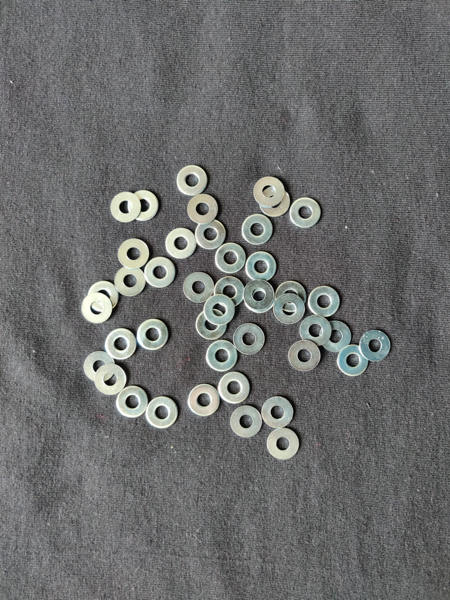circle: (267, 428, 301, 461), (145, 396, 178, 430), (262, 397, 294, 430), (276, 280, 308, 313), (116, 386, 148, 419), (105, 329, 138, 361), (231, 406, 263, 438), (360, 330, 392, 362), (218, 372, 250, 404), (273, 293, 305, 325), (188, 385, 220, 417), (137, 319, 169, 351), (83, 351, 115, 383), (310, 286, 341, 319), (289, 197, 322, 228), (338, 345, 369, 377), (289, 341, 321, 372), (321, 321, 352, 353), (234, 324, 265, 356), (206, 340, 237, 372), (195, 218, 226, 250), (165, 227, 196, 259), (128, 189, 159, 221), (88, 280, 119, 312), (95, 364, 126, 396), (300, 316, 333, 346), (196, 309, 227, 340), (215, 243, 246, 274), (183, 272, 214, 303), (118, 238, 149, 269), (81, 293, 112, 324), (204, 294, 234, 326), (176, 165, 208, 195), (111, 191, 141, 223), (259, 187, 290, 217), (214, 277, 245, 307), (246, 283, 276, 314), (242, 215, 273, 245), (187, 194, 218, 224), (145, 257, 176, 287), (115, 267, 146, 297), (254, 176, 284, 206), (244, 280, 274, 310), (246, 251, 276, 281)
